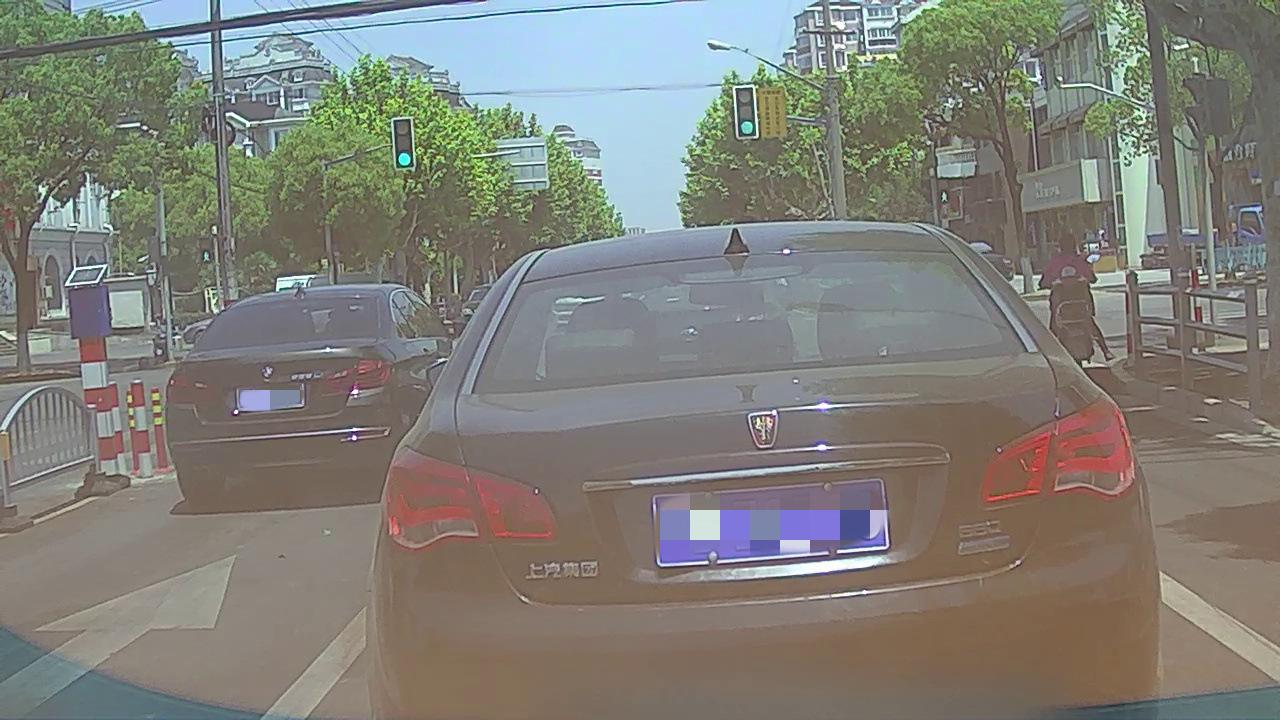traffic_light: (735, 86, 759, 137), (393, 120, 413, 166)
